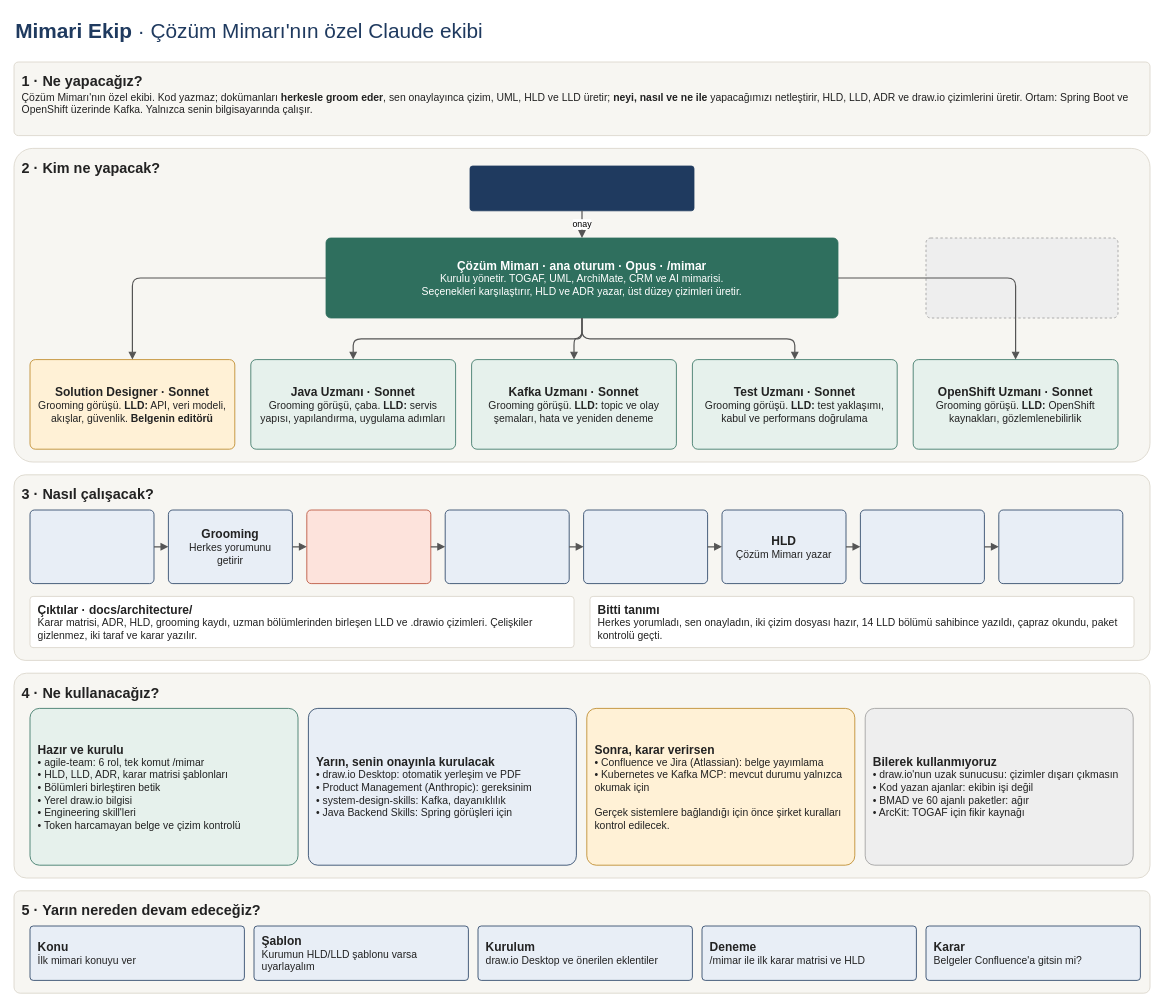
This 1164x1007 diagram has some shape labels left out. The centre of each missing label's shape, as x and y in pixels:
"Dokümanlar Tek komutla okunur, metne çevrilir" goes at (91,546).
"LLD Herkes kendi bölümünü yazar" goes at (922,546).
"Mimari çizim Bağlam, bileşen, entegrasyon, dağıtım" goes at (506,546).
"Sen Konuyu verirsin, yönü onaylarsın" goes at (581,188).
"Senin tamamın Onaysız çizim başlamaz" goes at (368,546).
"Solution Manager Şimdilik pasif, kenarda duruyor" goes at (1021,277).
"Son kontrol Çapraz okuma, paket betiği" goes at (1060,546).
"UML tasarım Sequence, sınıf, veri, olay" goes at (645,546).
